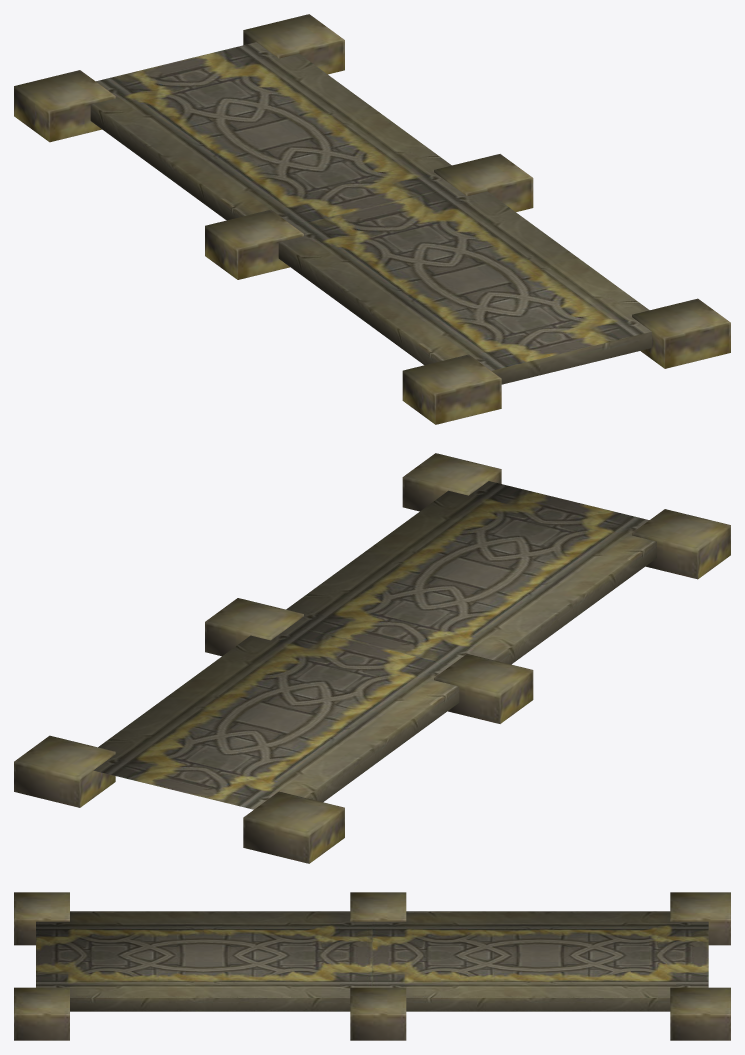
The model's file is Battle05_Road_05.FBX.
3 renders of one model, top to bottom at view 1: azimuth 30°, elevation 25°; view 2: azimuth 150°, elevation 25°; view 3: azimuth 270°, elevation 25°, orthographic. The views are drawn at different scales.
Visible parts, largest first — view 1: Battle05_Road_05; view 2: Battle05_Road_05; view 3: Battle05_Road_05.
Boxes of the visible parts, box(x1,y1,x2,y2) form: Battle05_Road_05: box(14, 14, 730, 424); Battle05_Road_05: box(14, 453, 730, 863); Battle05_Road_05: box(14, 892, 730, 1040).
Size of the model in its own units: 15.08 by 1.47 by 37.29.
